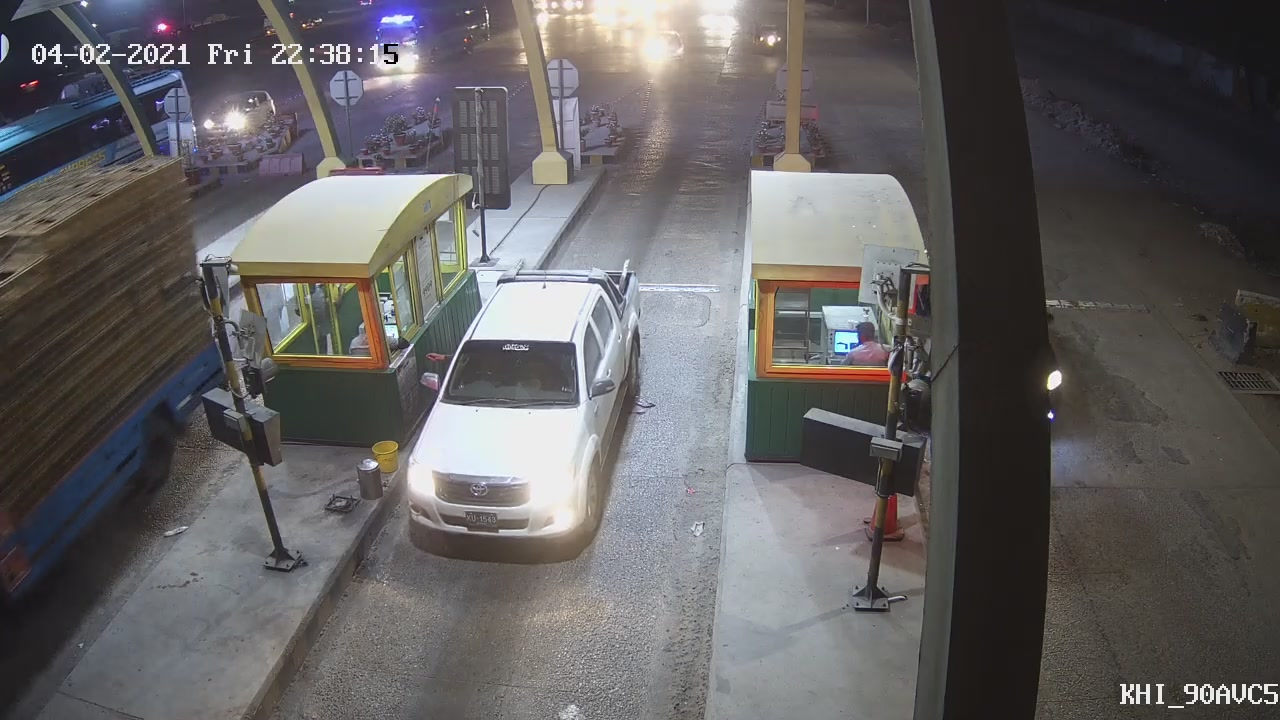F1: (402, 252, 647, 550)
